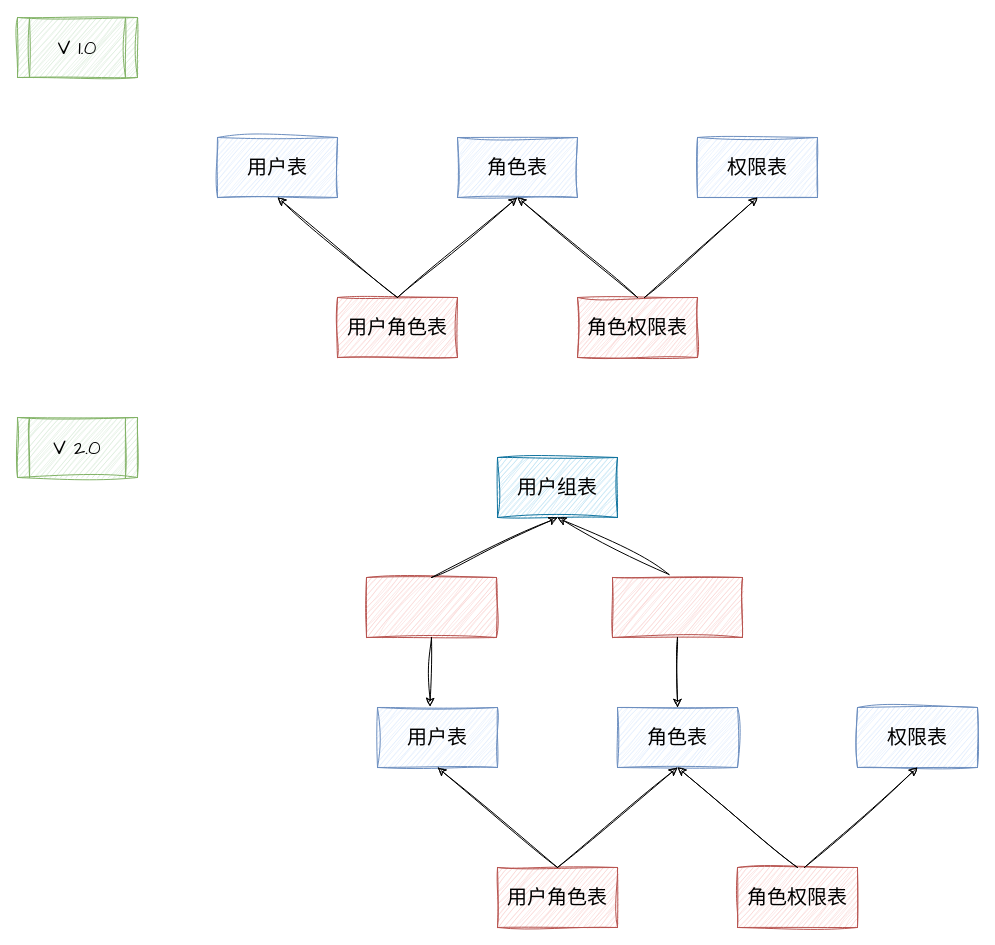
The diagram is 995 pixels wide and 945 high, and some of its shapes have lost their labels. The centre of each missing label's shape, as x and y in pixels:
"用户组用户表" goes at [431,607].
"用户组角色表" goes at [677,607].
